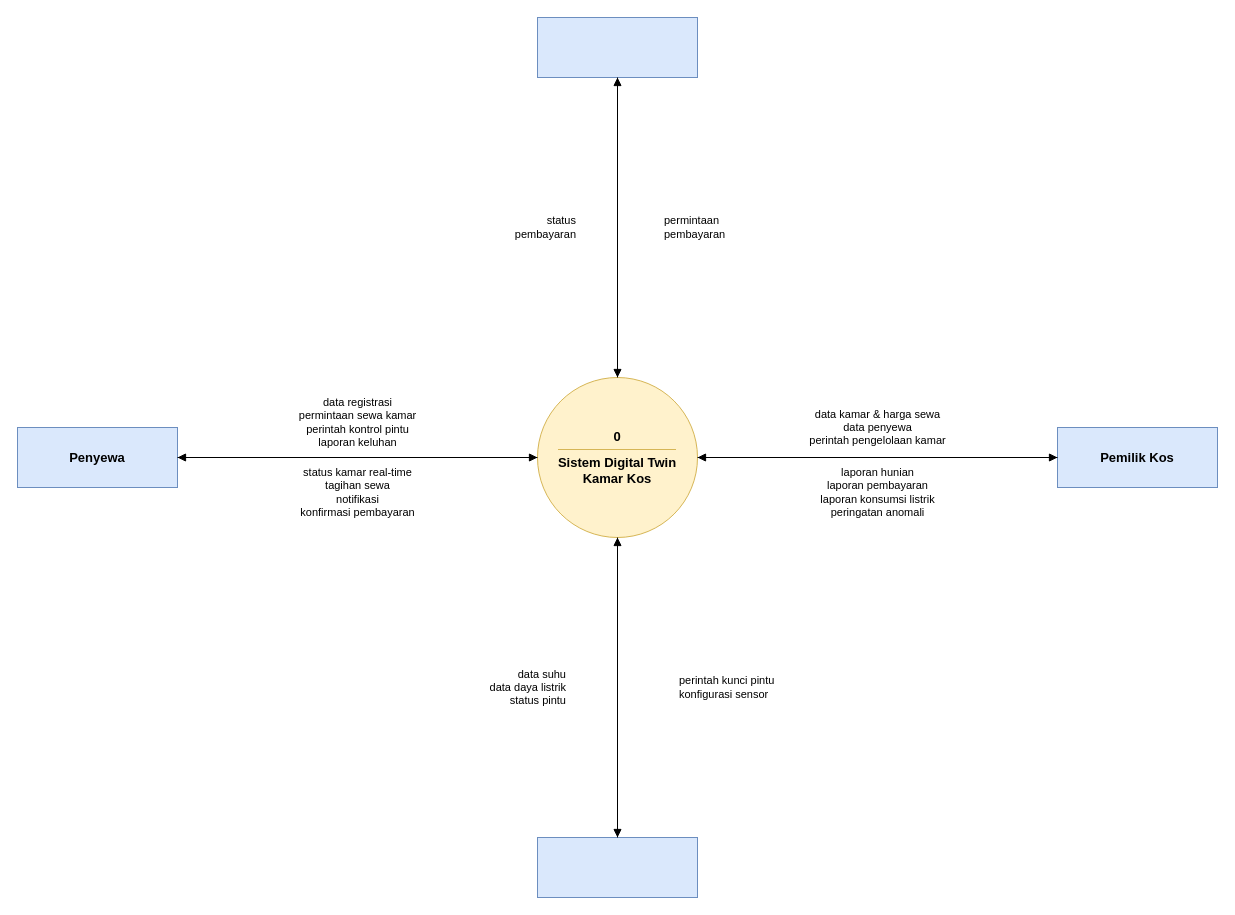
This 1235x915 diagram has some shape labels left out. The centre of each missing label's shape, as x and y in pixels:
"Layanan Pembayaran" goes at point 617,47.
"Sensor IoT" goes at point 617,867.
